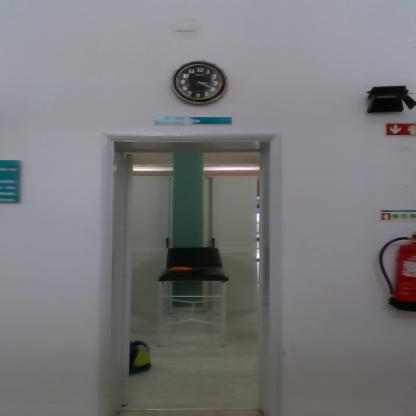open: (95, 127, 296, 408)
